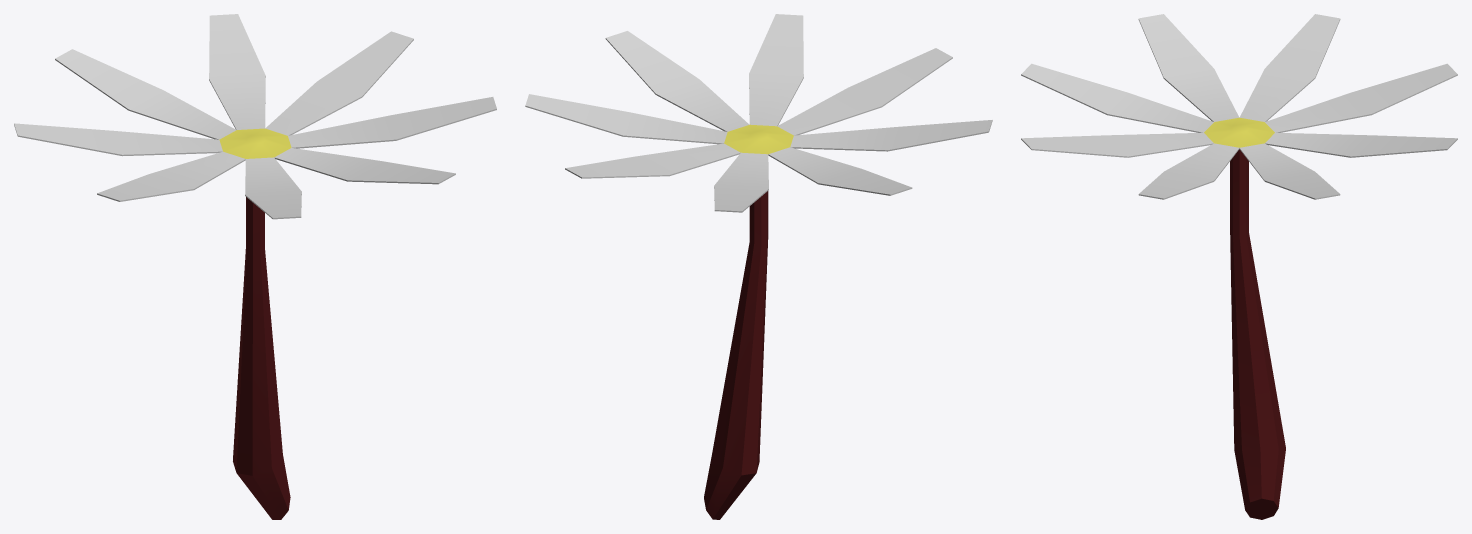
The model's file is Bloodroot.fbx.
The picture shows the model from 3 angles, left to right: view 1: azimuth 30°, elevation 25°; view 2: azimuth 150°, elevation 25°; view 3: azimuth 270°, elevation 25°; orthographic projection. The views are drawn at different scales.
Parts seen in each view (by area): view 1: BloodRoot; view 2: BloodRoot; view 3: BloodRoot.
Part boxes in pixels (<box>): BloodRoot: <box>14,14,496,519</box>; BloodRoot: <box>525,14,992,519</box>; BloodRoot: <box>1021,14,1457,519</box>.
Size of the model in its own units: 221 by 223 by 221.
